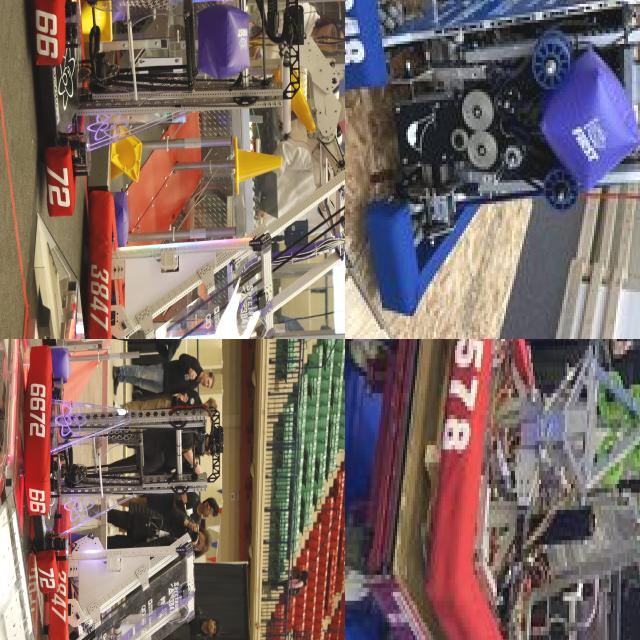FRC-Robots: (345, 0, 640, 317), (78, 0, 345, 339), (19, 0, 309, 265), (395, 339, 640, 640), (21, 339, 217, 612), (34, 478, 214, 640)
